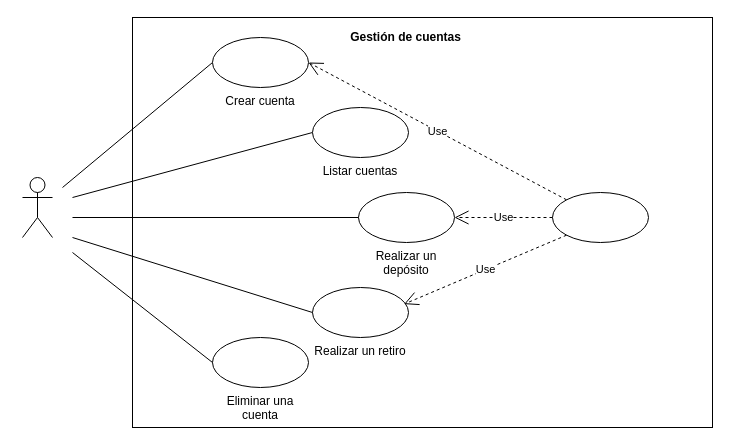
Image size: 730x445. Some labels were removed from this diagram. The centre of each missing label's shape, as x and y in pixels:
Obtener detalles de cuenta: the point at 600,217
Usuario: the point at 37,207
